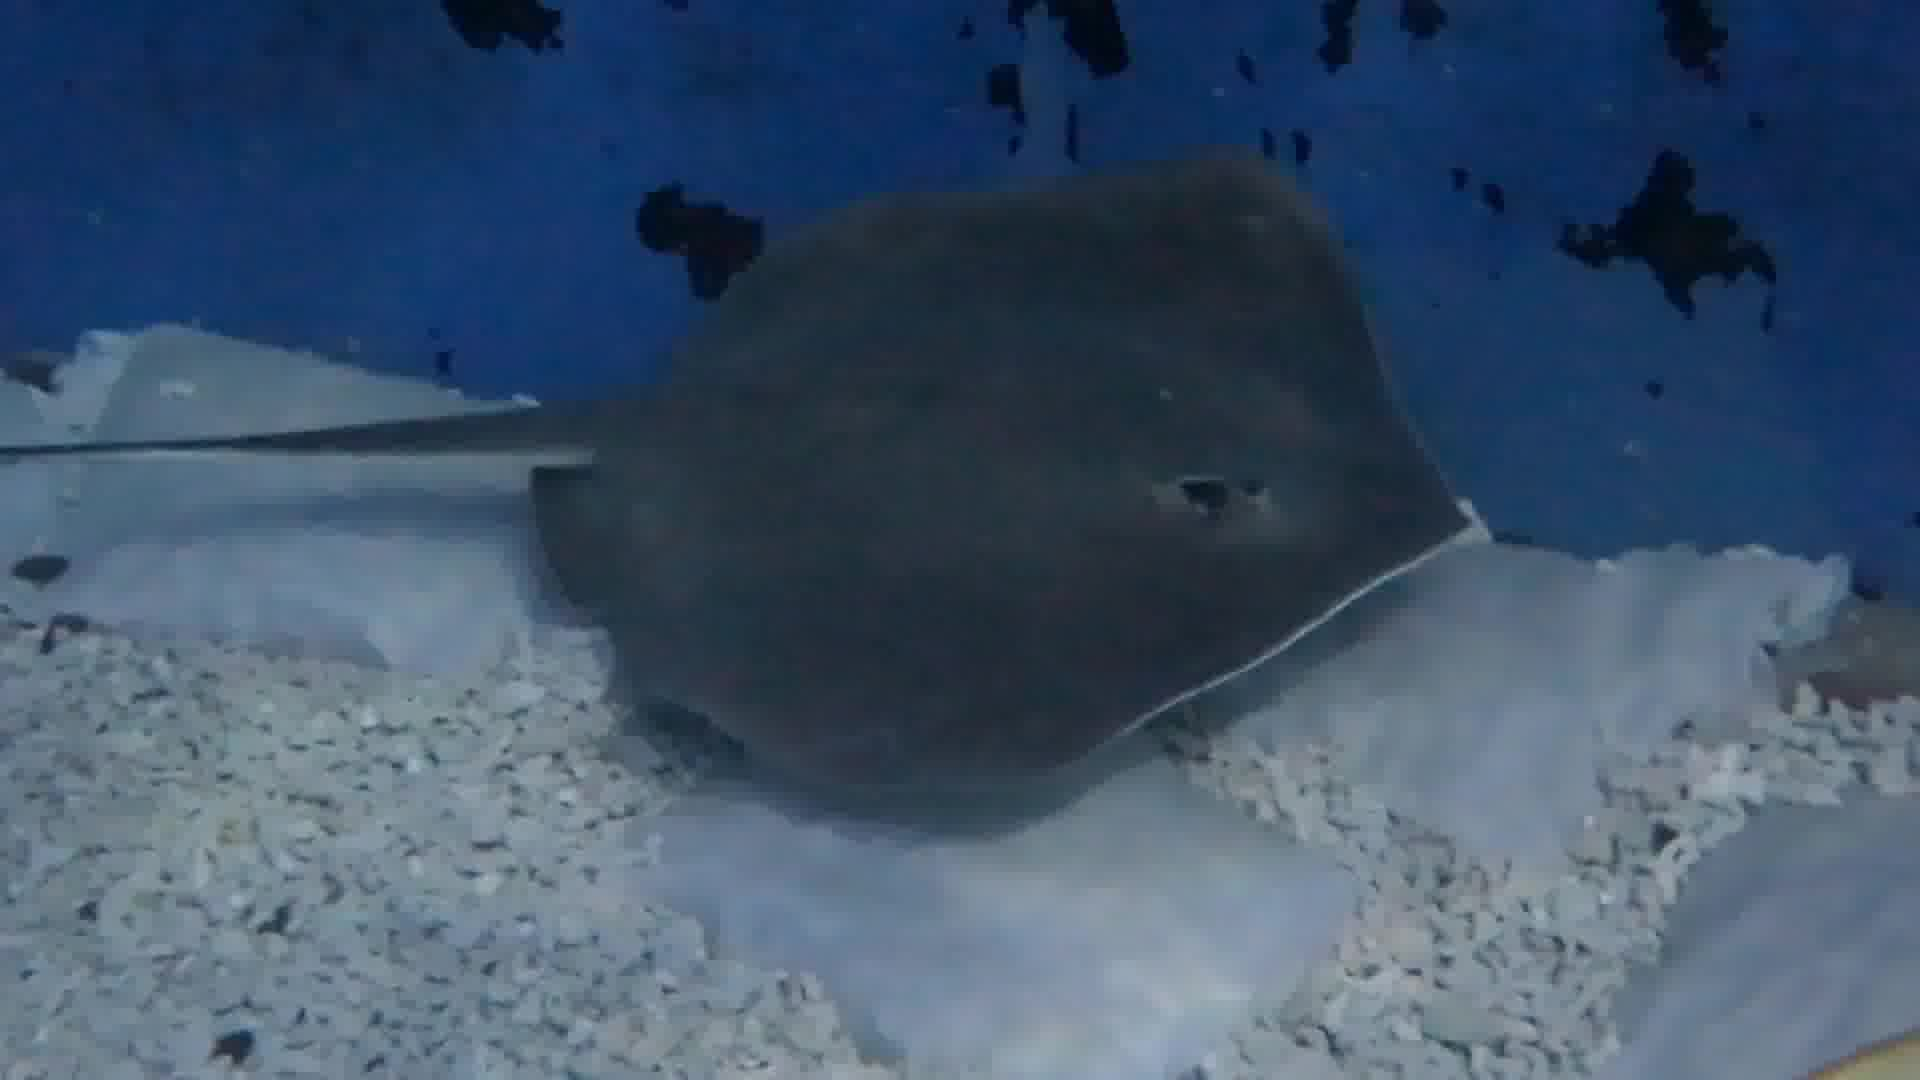Dasyatis bennetti: (487, 65, 1526, 894)
